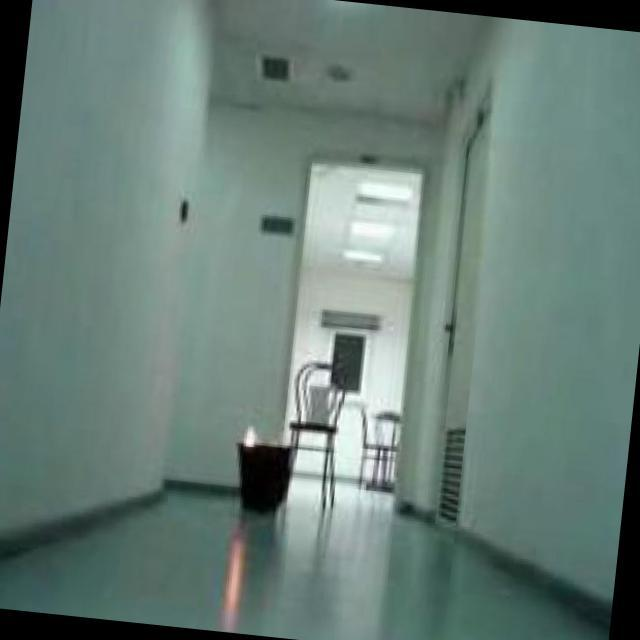Fire: (234, 423, 264, 452)
